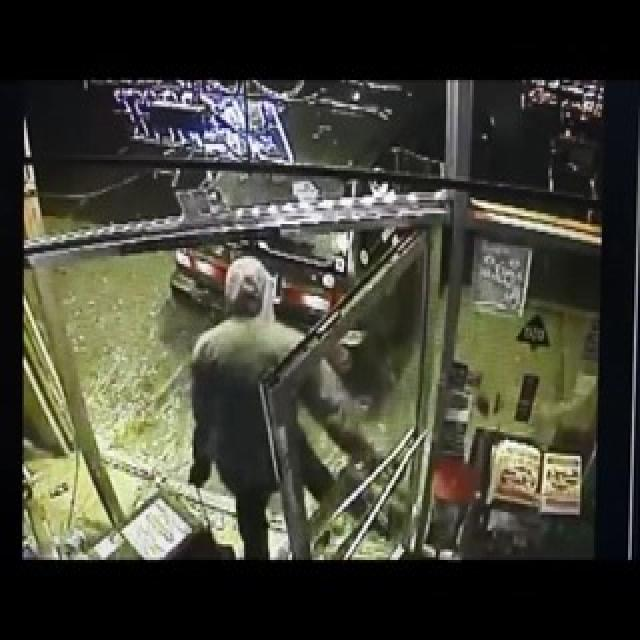thief: (116, 113, 395, 381)
